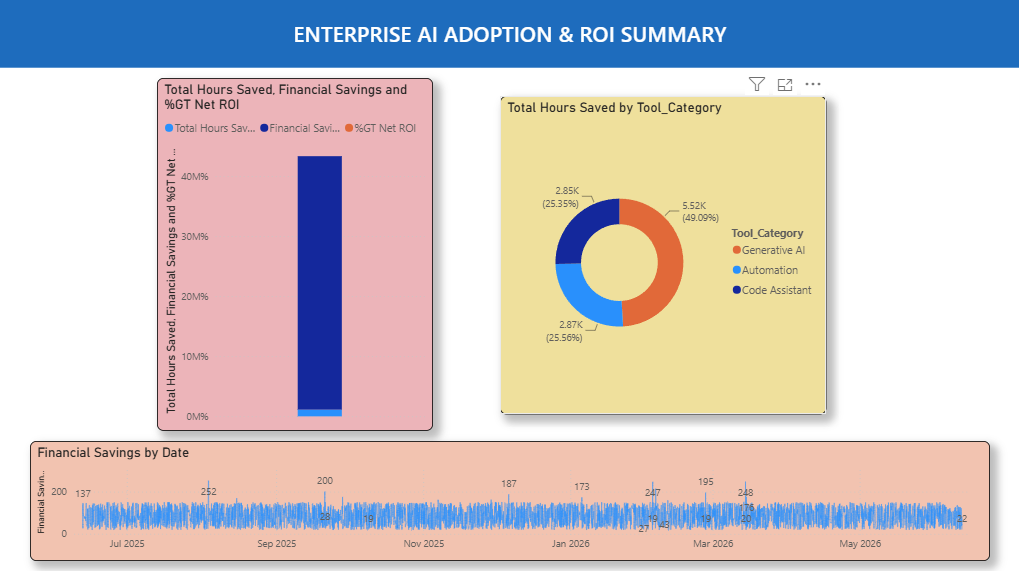

The dashboard page shown, as its layout file describes it:
{"tool":"powerbi","page":{"name":"Page 1","canvas":[1280,720],"ordinal":0},"visuals":[{"type":"shape","box":[0,0,1280,85.6],"z":3},{"type":"columnChart","fields":{"Y":["Tool_Usage_Log.Total Hours Saved","Financial_Impact.Financial Savings","Financial_Impact.Net ROI"]},"box":[198.8,98.8,345,441.2],"z":4},{"type":"donutChart","fields":{"Category":["Tool_Usage_Log.Tool_Category"],"Y":["Tool_Usage_Log.Total Hours Saved"]},"box":[627.5,121.2,407.5,397.5],"z":5},{"type":"lineChart","fields":{"Y":["Financial_Impact.Financial Savings"],"Category":["Tool_Usage_Log.Date"]},"box":[40,552.5,1200,150],"z":6}]}

Visuals, with their boxes in screenshot pixels (x1, y1, x2, y2), scaled from the page's 1280x720 canvas onto the 1019x571 screenshot:
shape: box(0, 0, 1018, 68)
columnChart - Tool_Usage_Log.Total Hours Saved x Financial_Impact.Financial Savings: box(158, 78, 433, 428)
donutChart - Tool_Usage_Log.Tool_Category x Tool_Usage_Log.Total Hours Saved: box(500, 96, 824, 411)
lineChart - Financial_Impact.Financial Savings x Tool_Usage_Log.Date: box(32, 438, 987, 557)
